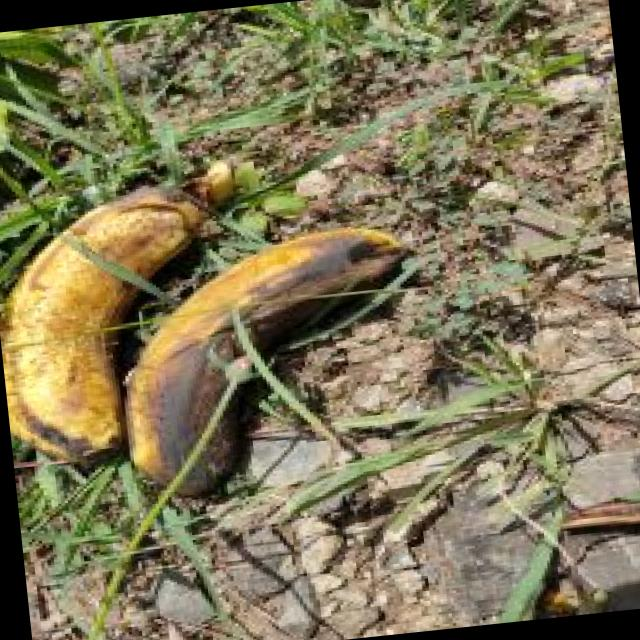banana: (143, 95, 544, 483)
